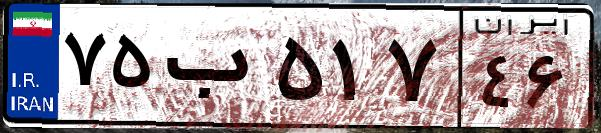1: (330, 28, 385, 110)
4: (475, 38, 525, 113)
5: (270, 28, 330, 110), (110, 28, 158, 98)
6: (525, 38, 570, 115)
7: (385, 28, 445, 110), (57, 26, 110, 100)
ب: (158, 20, 270, 120)
